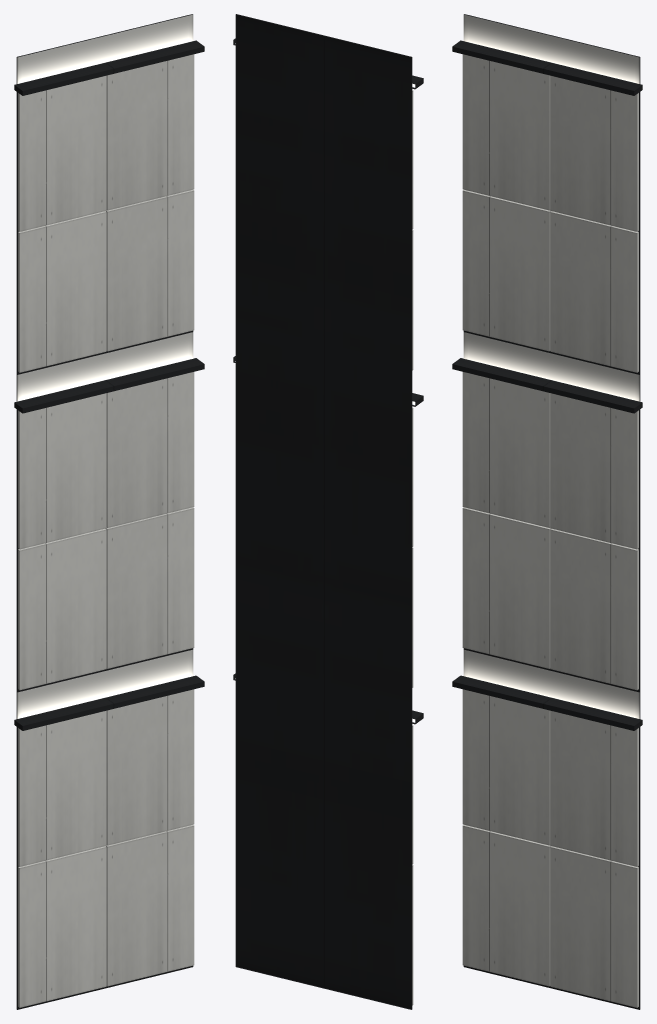
Rendered from SM_LFD_WallPanel_Tall.fbx.
3 views of the same model, side by side, from view 1: azimuth 30°, elevation 25°; view 2: azimuth 150°, elevation 25°; view 3: azimuth 330°, elevation 25° (orthographic).
Parts seen in each view (by area): view 1: SM_LFD_WallPanel_Tall_LOD0; view 2: SM_LFD_WallPanel_Tall_LOD0; view 3: SM_LFD_WallPanel_Tall_LOD0.
Boxes of the visible parts, x1,y1,x2,y2 form: SM_LFD_WallPanel_Tall_LOD0: [14, 14, 204, 1009]; SM_LFD_WallPanel_Tall_LOD0: [233, 14, 423, 1009]; SM_LFD_WallPanel_Tall_LOD0: [452, 14, 642, 1009].
Size of what is drawn, in the model's own units: 3 by 15 by 0.26.
